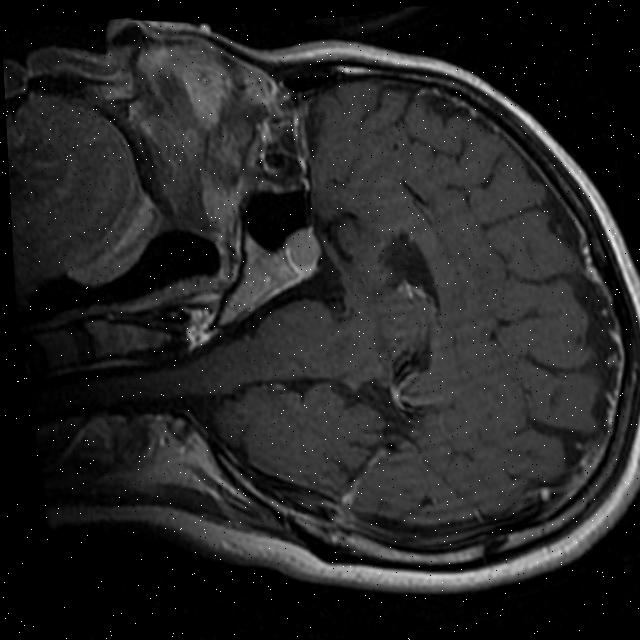Pituitary: (279, 224, 325, 280)
